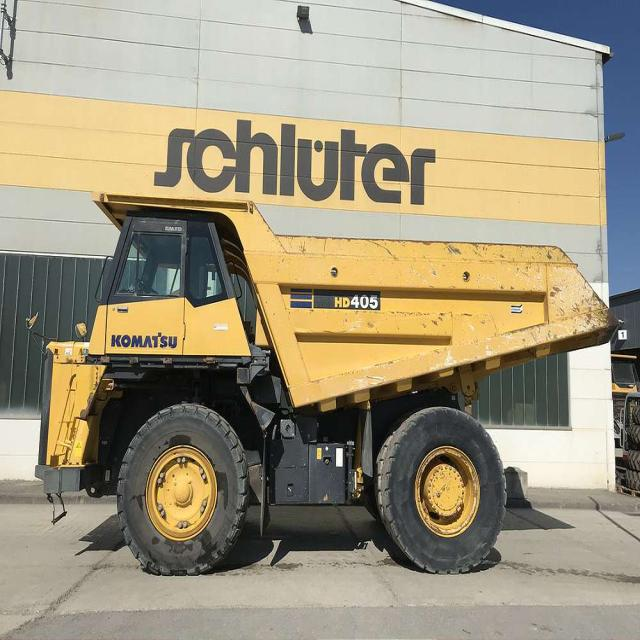dump_truck: (36, 178, 624, 574)
